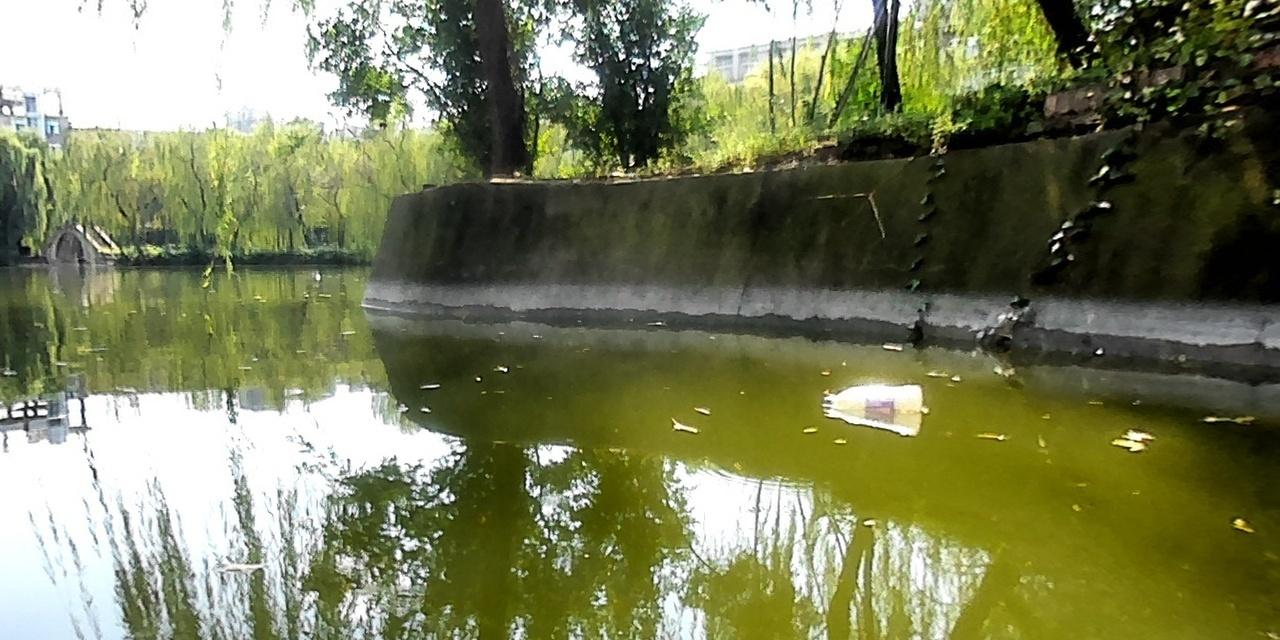bottle: (822, 379, 924, 414)
